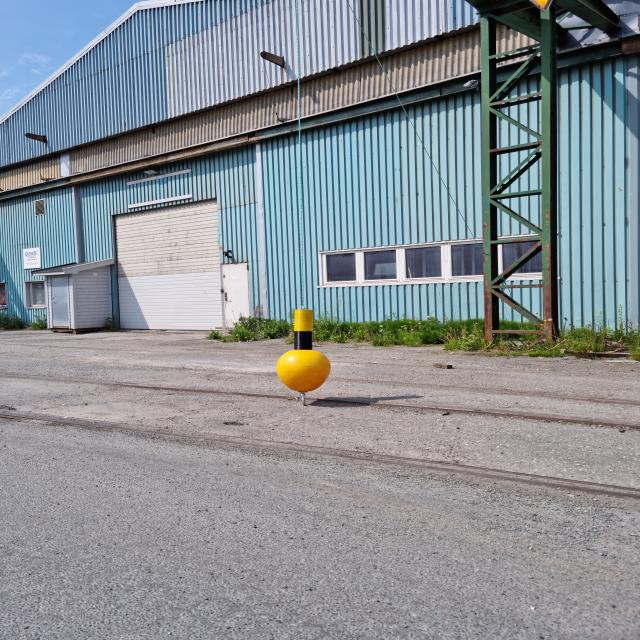west: (276, 308, 332, 392)
